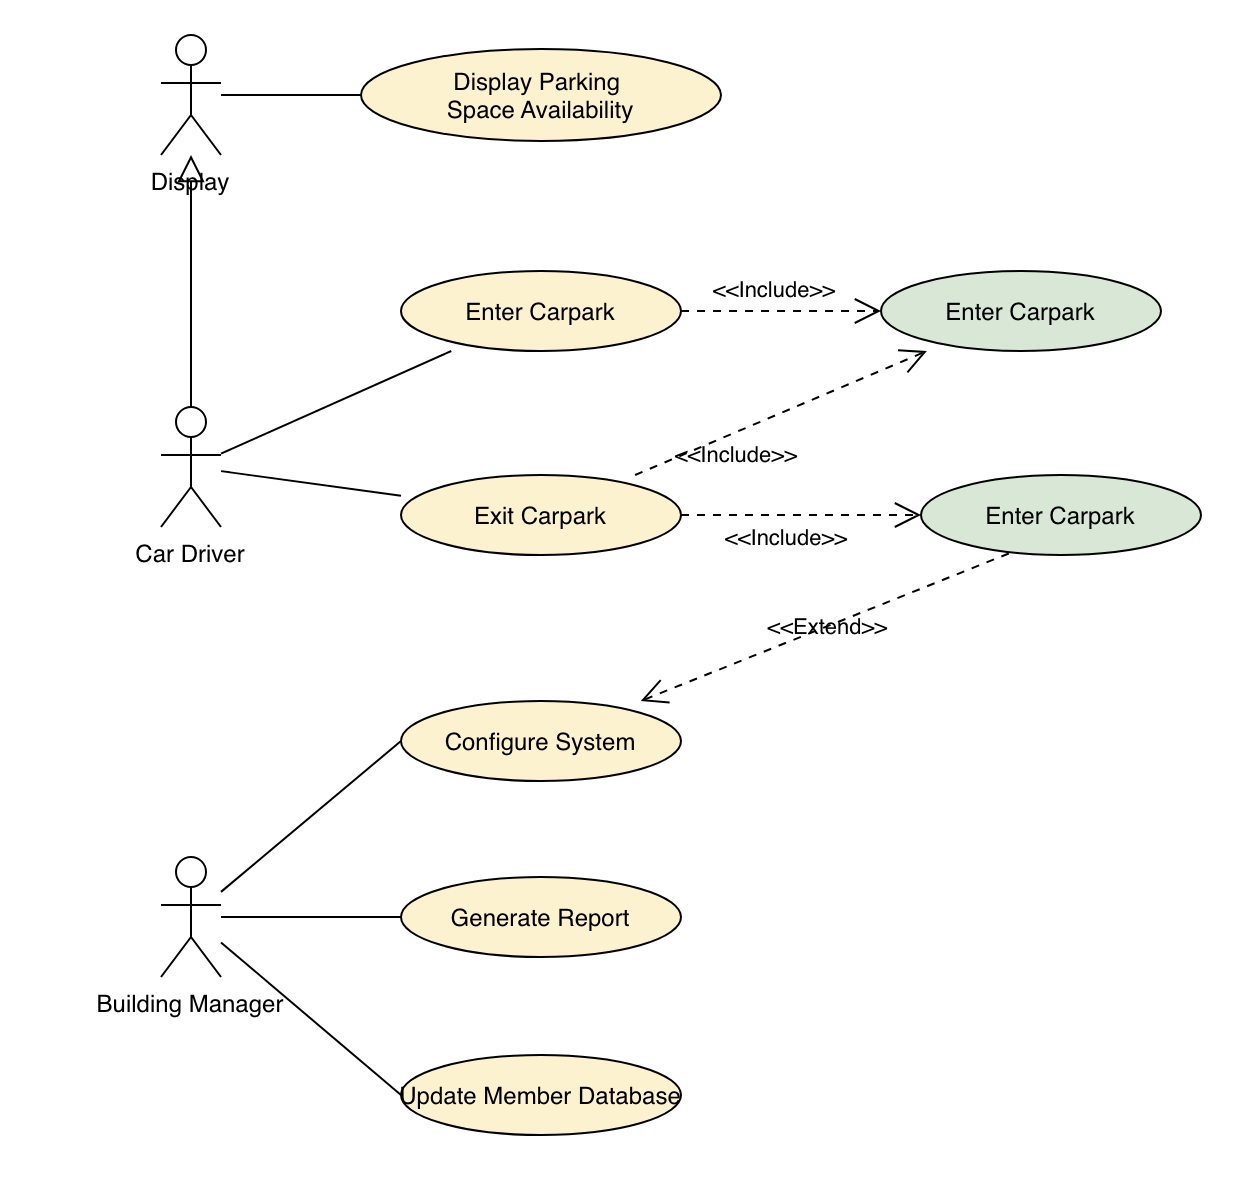actor: (157, 31, 226, 162), (160, 403, 225, 531), (160, 854, 222, 979)
association: (641, 551, 1011, 706), (632, 347, 933, 479), (219, 738, 402, 895), (220, 937, 399, 1095), (217, 348, 452, 455), (689, 294, 880, 336), (682, 498, 921, 531), (175, 156, 207, 402), (220, 466, 402, 505), (226, 901, 401, 935), (222, 81, 364, 113)
text: (439, 65, 642, 129), (405, 1081, 676, 1110), (92, 985, 286, 1023), (979, 492, 1146, 534), (444, 900, 635, 936), (938, 292, 1102, 333), (441, 725, 649, 757), (462, 496, 618, 538), (458, 300, 624, 329), (761, 609, 892, 646), (128, 538, 254, 570), (725, 523, 855, 554), (711, 275, 845, 304), (676, 441, 801, 470), (151, 166, 239, 196)
use_case: (358, 45, 724, 146), (398, 872, 683, 960), (398, 1052, 682, 1140), (397, 267, 682, 354), (398, 472, 685, 558), (398, 698, 684, 784), (880, 268, 1164, 354), (919, 475, 1203, 558)
